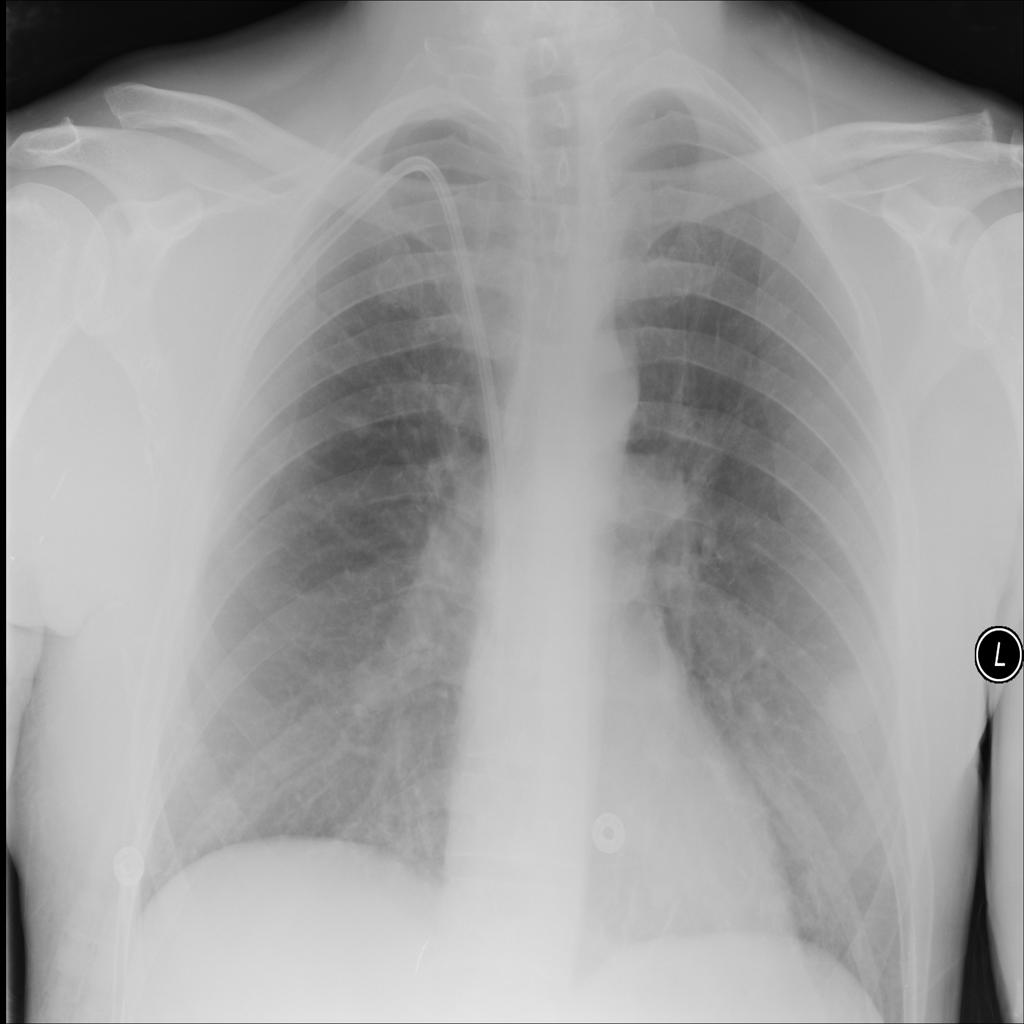nodule: (802, 643, 897, 769), (338, 644, 407, 723), (332, 396, 383, 448)
